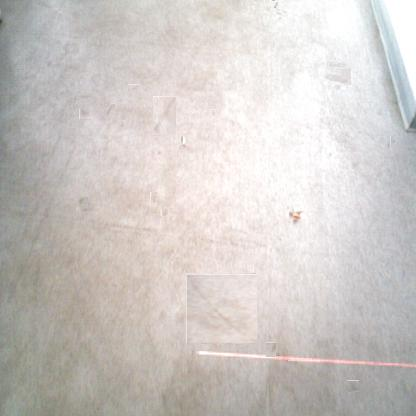dirty: (290, 209, 302, 221), (182, 134, 187, 146)
mark: (186, 274, 257, 344), (152, 96, 176, 135), (326, 65, 349, 88), (288, 360, 320, 375), (75, 198, 89, 212), (265, 344, 278, 356), (348, 380, 359, 392), (80, 109, 90, 120), (105, 104, 115, 114), (150, 192, 157, 206), (78, 94, 90, 102), (130, 83, 139, 93), (276, 10, 286, 19), (118, 120, 126, 130), (328, 150, 336, 160), (390, 136, 397, 146), (270, 1, 278, 8), (210, 109, 216, 118), (161, 209, 168, 216), (156, 147, 162, 155), (142, 87, 148, 93)
